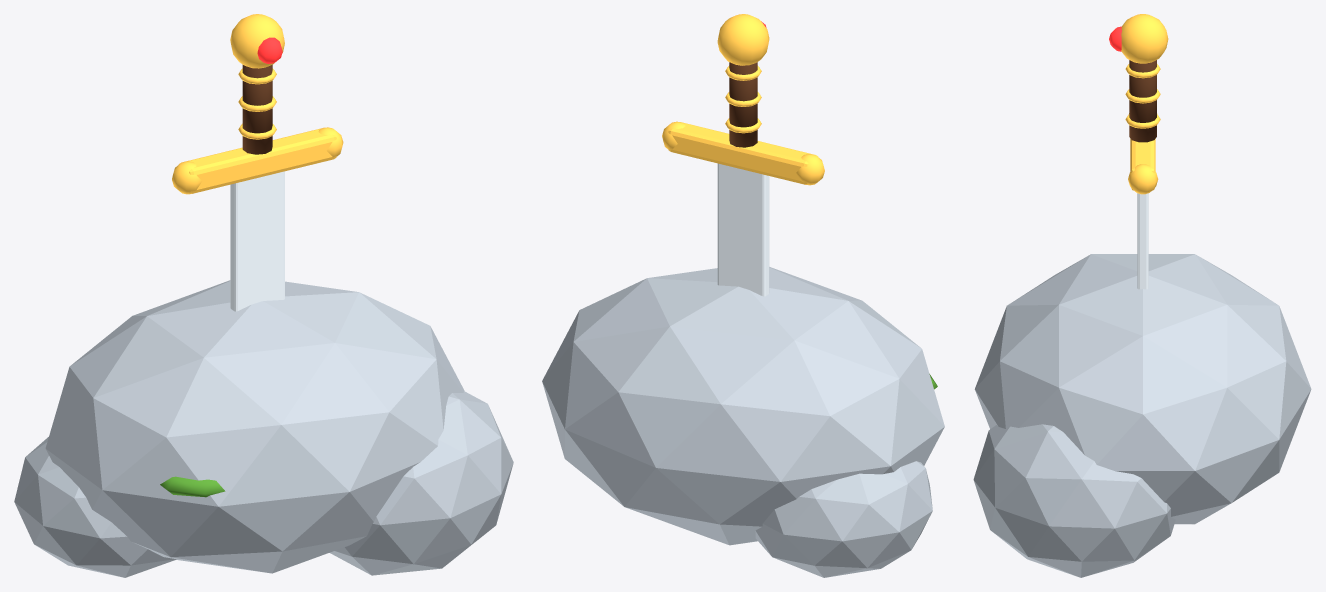
The model's file is espada.glb.
3 renders of one model, left to right at view 1: azimuth 30°, elevation 25°; view 2: azimuth 150°, elevation 25°; view 3: azimuth 270°, elevation 25°, orthographic. The views are drawn at different scales.
Parts seen in each view (by area): view 1: espada_piedra, espada_piedra_2, espada_piedra_3, espada_hoja, espada_guarda, espada_empunadura, espada_pomo, espada_musgo_1, espada_guarda_izq; view 2: espada_piedra, espada_piedra_3, espada_hoja, espada_guarda, espada_pomo, espada_empunadura, espada_guarda_izq; view 3: espada_piedra, espada_piedra_2, espada_pomo, espada_empunadura, espada_hoja, espada_guarda, espada_guarda_dcha.
Boxes of the visible parts, x1,y1,x2,y2 form: espada_piedra: (45, 280, 464, 573); espada_piedra_2: (329, 391, 513, 575); espada_piedra_3: (14, 437, 176, 577); espada_hoja: (230, 171, 284, 311); espada_guarda: (179, 128, 336, 193); espada_empunadura: (242, 64, 272, 154); espada_pomo: (230, 14, 284, 68); espada_musgo_1: (160, 476, 225, 497); espada_guarda_izq: (172, 161, 201, 194); espada_piedra: (542, 267, 944, 545); espada_piedra_3: (755, 461, 932, 577); espada_hoja: (717, 163, 769, 296); espada_guarda: (668, 122, 818, 184); espada_pomo: (717, 14, 769, 65); espada_empunadura: (729, 62, 757, 147); espada_guarda_izq: (796, 154, 824, 185); espada_piedra: (974, 254, 1311, 524); espada_piedra_2: (973, 424, 1175, 577); espada_pomo: (1121, 14, 1168, 63); espada_empunadura: (1129, 60, 1156, 142); espada_hoja: (1137, 193, 1148, 289); espada_guarda: (1130, 138, 1155, 190); espada_guarda_dcha: (1128, 164, 1158, 194).
Bounding box in the file's own units: 0.3473 × 0.437 × 0.267.
